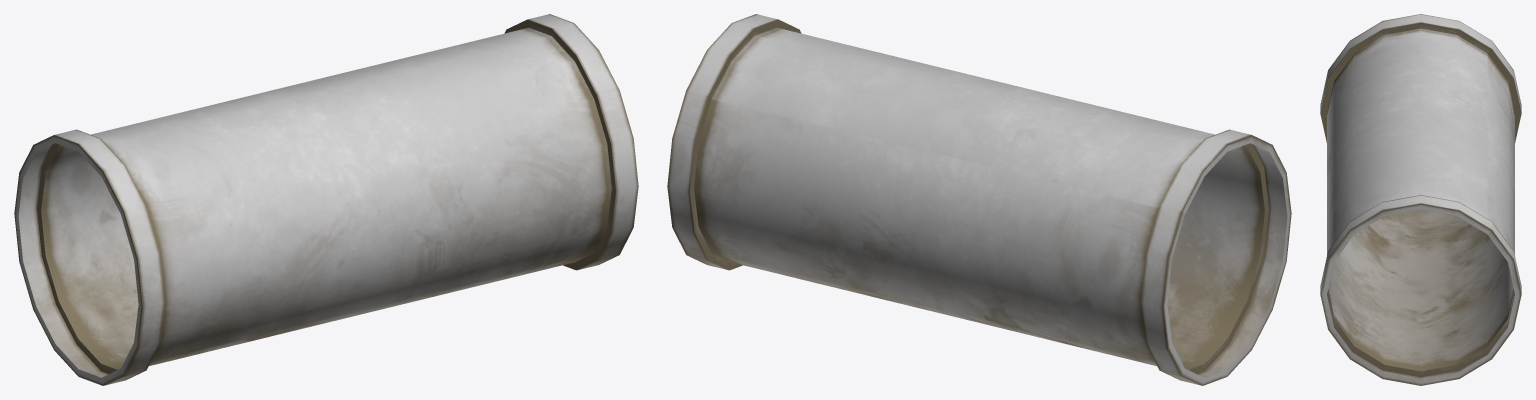
File: duct2.fbx
3 renders of one model, left to right at view 1: azimuth 30°, elevation 25°; view 2: azimuth 150°, elevation 25°; view 3: azimuth 270°, elevation 25°, orthographic. The views are drawn at different scales.
Visible parts, largest first — view 1: duct2; view 2: duct2; view 3: duct2.
Boxes of the visible parts, x1=… form: duct2: x1=14, y1=14, x2=638, y2=385; duct2: x1=667, y1=14, x2=1291, y2=385; duct2: x1=1320, y1=14, x2=1521, y2=385.
Bounding box in the file's own units: 0.9624 × 0.4316 × 0.4316.
